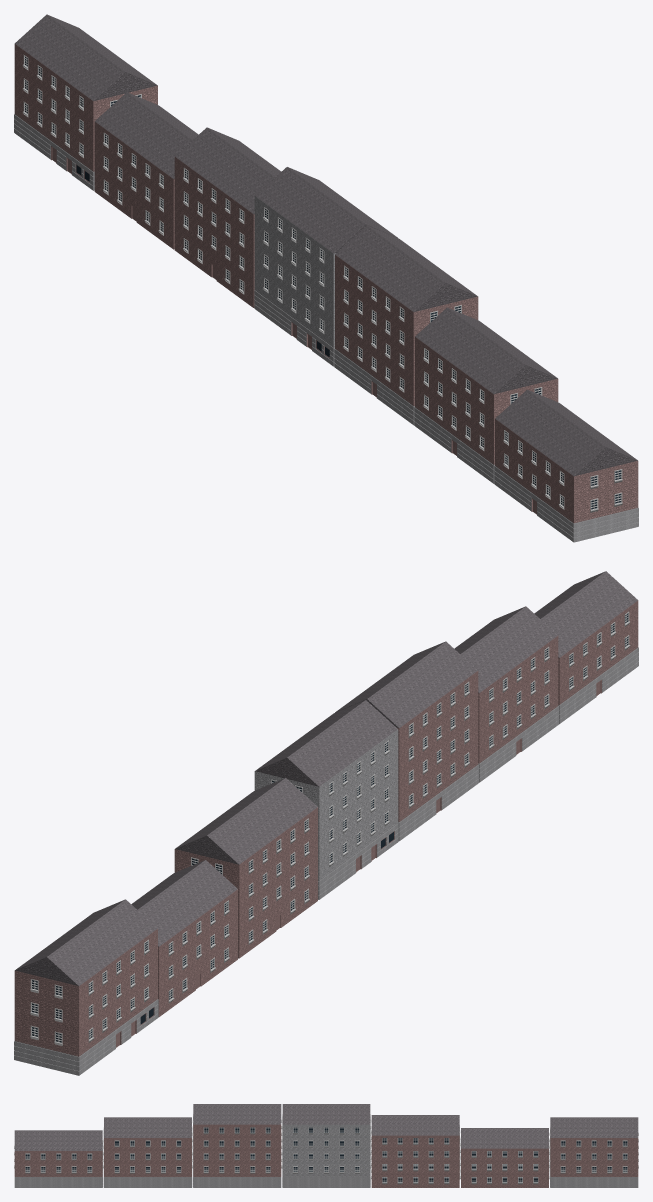
Rendered from ep5t-nha-day-pho.glb.
The picture shows the model from 3 angles, top to bottom: view 1: azimuth 30°, elevation 25°; view 2: azimuth 150°, elevation 25°; view 3: azimuth 270°, elevation 25°; orthographic projection. The views are drawn at different scales.
Visible parts, largest first — view 1: ep5t-nha-day-pho; view 2: ep5t-nha-day-pho; view 3: ep5t-nha-day-pho.
Part boxes in pixels (<box>): ep5t-nha-day-pho: <box>14,14,638,542</box>; ep5t-nha-day-pho: <box>14,571,638,1075</box>; ep5t-nha-day-pho: <box>14,1104,638,1187</box>.
Bounding box in the file's own units: 32.79 × 63.01 × 476.
7 materials, 7 textured.
